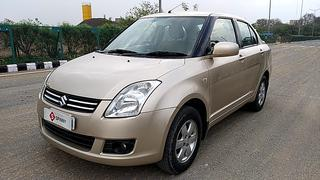car: (26, 1, 305, 177)
